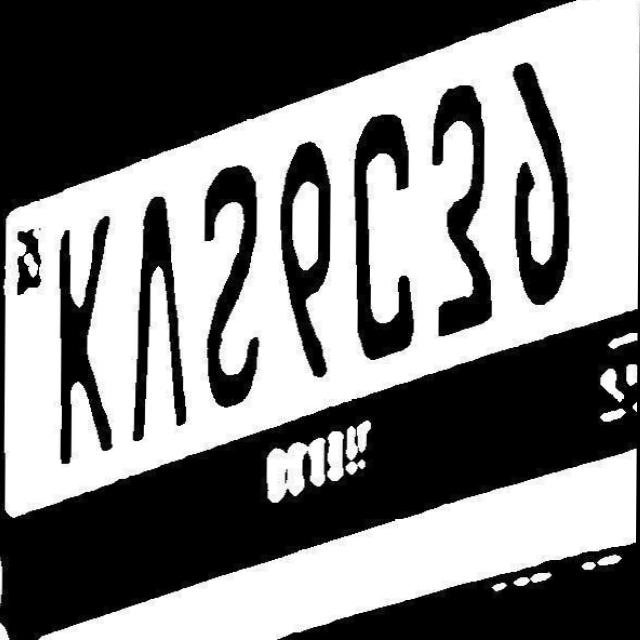3: (422, 86, 505, 343)
6: (274, 114, 353, 388)
9: (501, 57, 577, 310)
c: (345, 107, 427, 370)
k: (54, 192, 128, 464)
s: (199, 148, 275, 404)
v: (125, 186, 197, 445)
